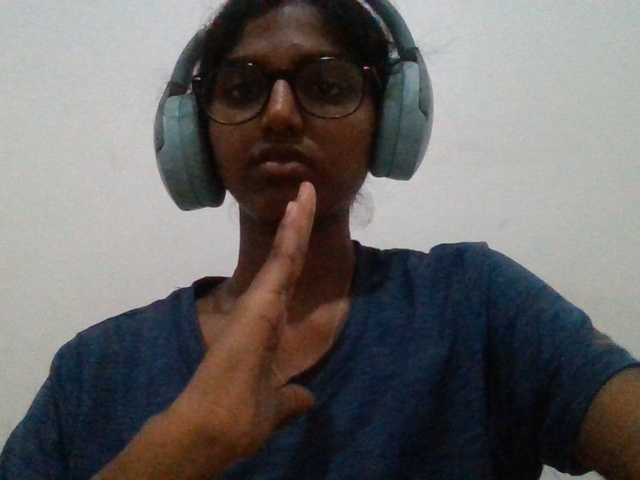Fine: (140, 155, 387, 464)
